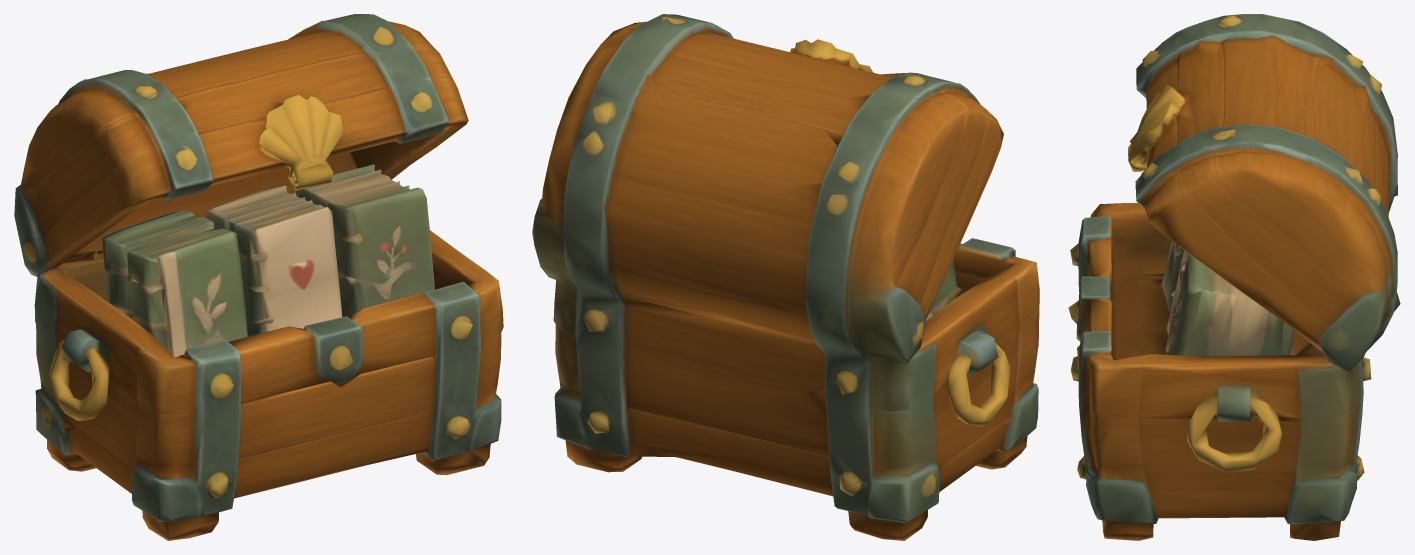
File: journal-chest.glb
The picture shows the model from 3 angles, left to right: view 1: azimuth 30°, elevation 25°; view 2: azimuth 150°, elevation 25°; view 3: azimuth 270°, elevation 25°; orthographic projection. The views are drawn at different scales.
Parts seen in each view (by area): view 1: tripo_node_053c1b69-a673-49c5-b6b7-9ea8235a07ae; view 2: tripo_node_053c1b69-a673-49c5-b6b7-9ea8235a07ae; view 3: tripo_node_053c1b69-a673-49c5-b6b7-9ea8235a07ae.
Boxes of the visible parts, x1,y1,x2,y2 form: tripo_node_053c1b69-a673-49c5-b6b7-9ea8235a07ae: (14,14,503,540); tripo_node_053c1b69-a673-49c5-b6b7-9ea8235a07ae: (532,14,1039,540); tripo_node_053c1b69-a673-49c5-b6b7-9ea8235a07ae: (1068,14,1400,540).
Bounding box in the file's own units: 0.9992 × 0.9714 × 0.7466.
1 material, 1 textured.
